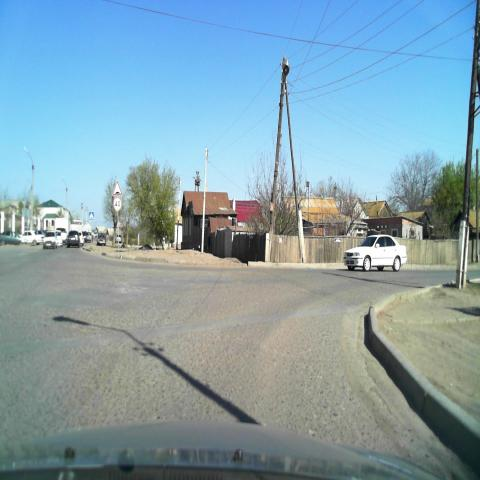1_17: (113, 180, 122, 195)
3_24: (113, 196, 122, 212)
5_20: (89, 211, 95, 220)
